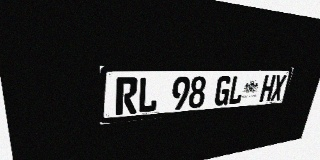8: (188, 76, 207, 109)
9: (170, 76, 191, 110)
G: (213, 76, 232, 106)
H: (259, 75, 276, 102)
L: (137, 77, 159, 113), (227, 75, 246, 105)
R: (116, 77, 138, 115)
X: (270, 75, 287, 101)
